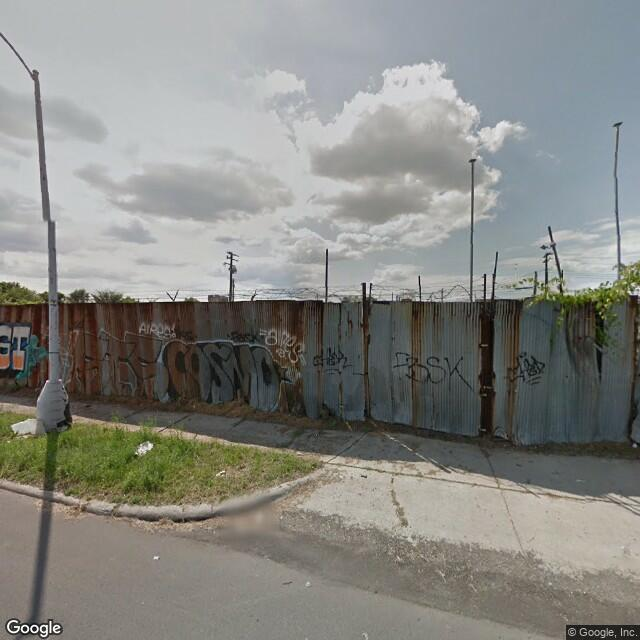litter: (8, 412, 51, 439), (130, 438, 157, 456), (215, 467, 228, 477), (152, 553, 159, 562)
